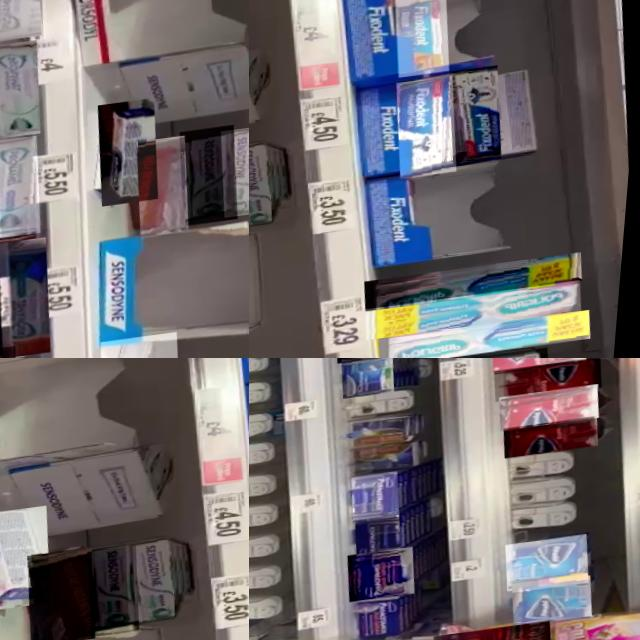Other: (509, 535, 599, 594), (495, 358, 607, 403), (501, 385, 605, 432), (517, 577, 602, 628), (506, 418, 605, 460), (351, 547, 425, 603), (351, 440, 424, 479), (354, 472, 408, 524), (355, 595, 417, 640), (358, 515, 410, 562), (342, 358, 400, 399), (438, 621, 563, 640), (561, 610, 640, 640), (356, 414, 420, 450), (492, 358, 591, 373)
Toothpaste: (368, 254, 590, 313), (370, 283, 589, 342), (383, 311, 599, 358), (95, 98, 170, 207), (0, 237, 65, 358), (24, 547, 106, 640), (393, 77, 466, 180), (177, 125, 249, 227), (445, 67, 511, 167), (135, 137, 200, 238), (0, 505, 60, 613), (86, 546, 150, 637), (0, 136, 52, 240), (124, 537, 185, 624), (0, 40, 49, 141), (249, 141, 282, 229), (219, 125, 249, 219), (101, 332, 195, 358)
